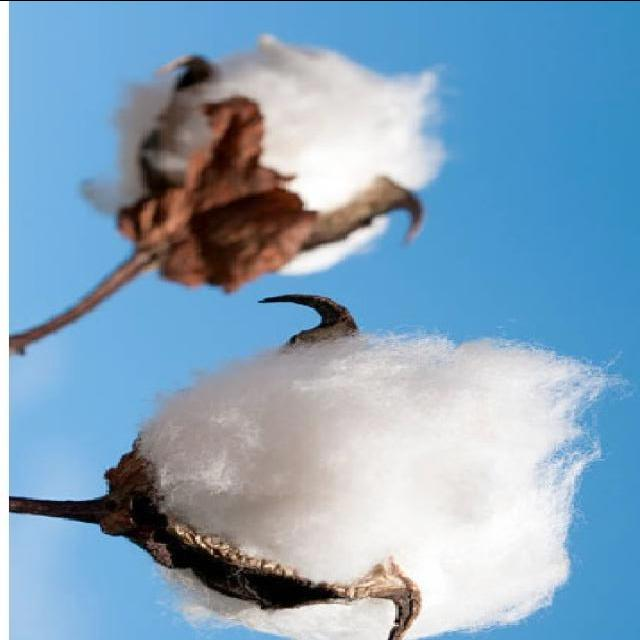Matured Cotton Boll: (128, 336, 590, 640), (96, 47, 422, 279)
